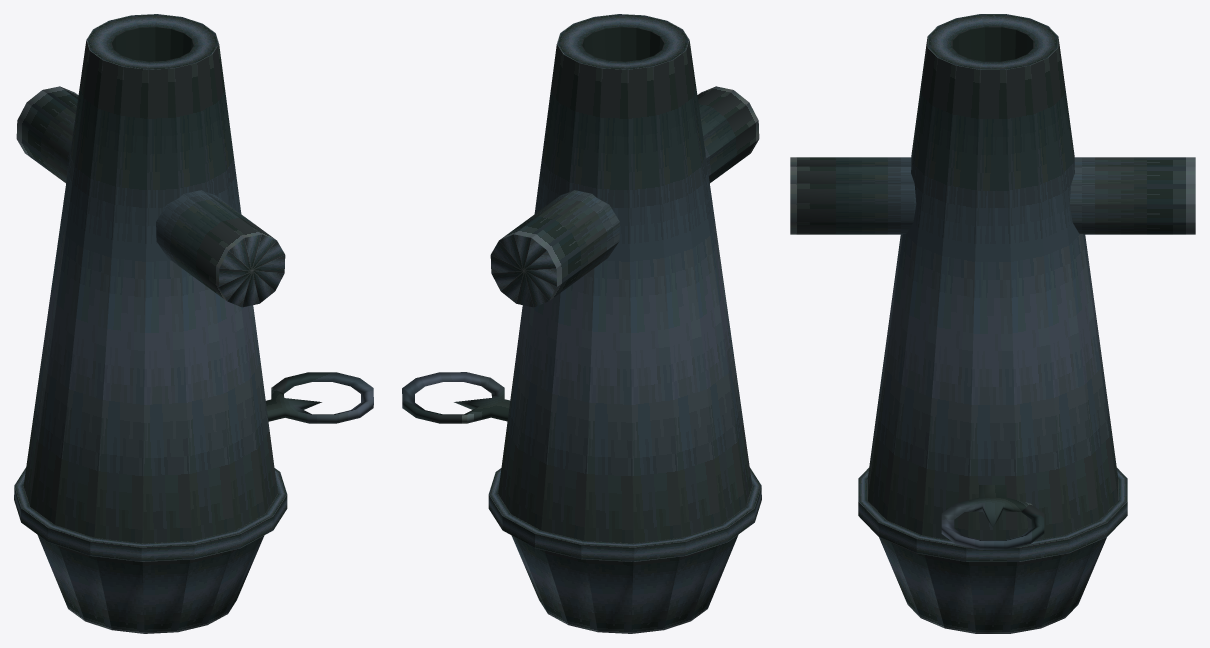
Rendered from Cannon.obj.
3 views of the same model, side by side, from view 1: azimuth 30°, elevation 25°; view 2: azimuth 150°, elevation 25°; view 3: azimuth 270°, elevation 25° (orthographic).
Visible parts, largest first — view 1: mesh-1; view 2: mesh-1; view 3: mesh-1.
Part boxes in pixels (left/top/right/bottom): mesh-1: left=14, top=14, right=373, bottom=633; mesh-1: left=402, top=14, right=761, bottom=633; mesh-1: left=790, top=14, right=1195, bottom=633.
Size of the model in its own units: 142 by 235 by 149.
Materials: 1 (1 with a texture image).
